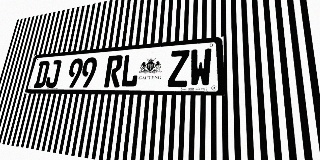9: (79, 57, 98, 87), (66, 58, 84, 88)
D: (33, 61, 50, 88)
J: (45, 60, 62, 88)
L: (120, 53, 140, 87)
R: (104, 55, 123, 87)
W: (189, 48, 212, 87)
Z: (168, 50, 190, 87)
